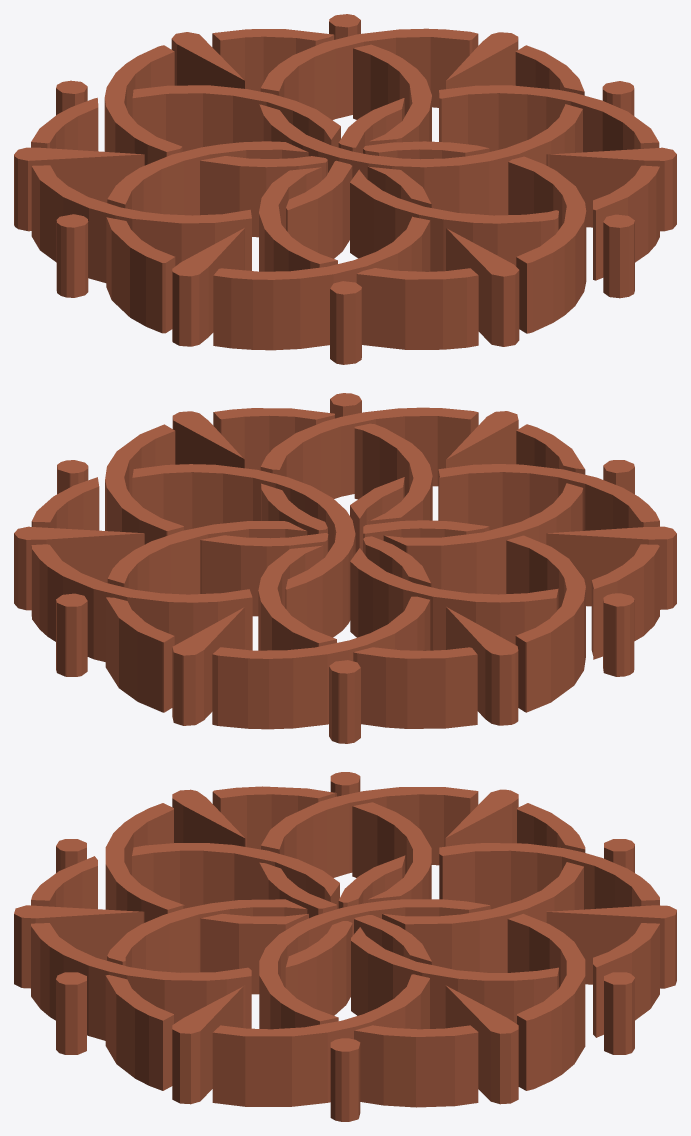
File: wick-radical-inclusion.glb
3 renders of one model, top to bottom at view 1: azimuth 30°, elevation 25°; view 2: azimuth 150°, elevation 25°; view 3: azimuth 270°, elevation 25°, orthographic.
Bounding box in the file's own units: 0.1082 × 0.0127 × 0.1085.
